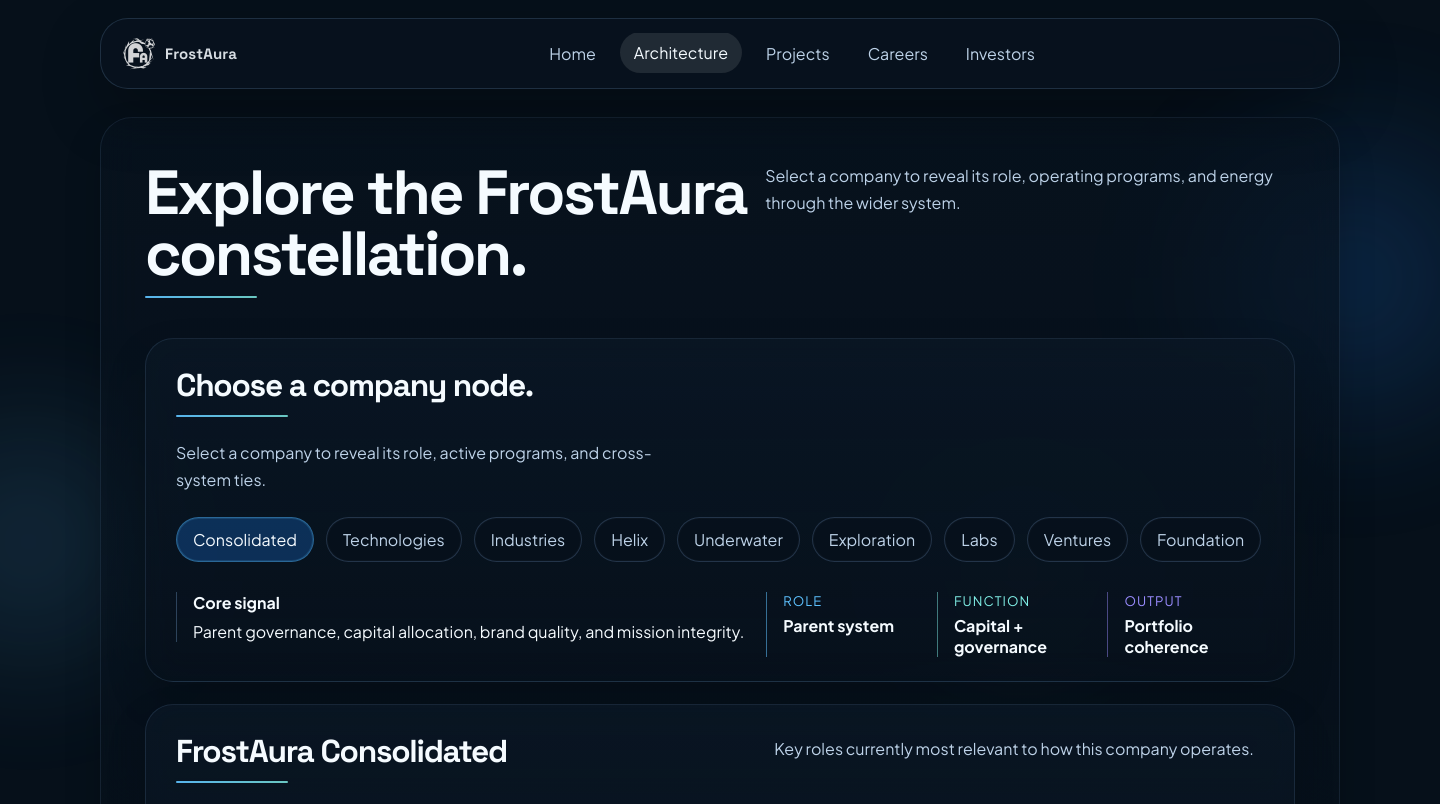
Test: App › switches the architecture detail panel
Click the tab "Technologies" at point(394, 540), box [326, 517, 462, 562]
(page scrolled)
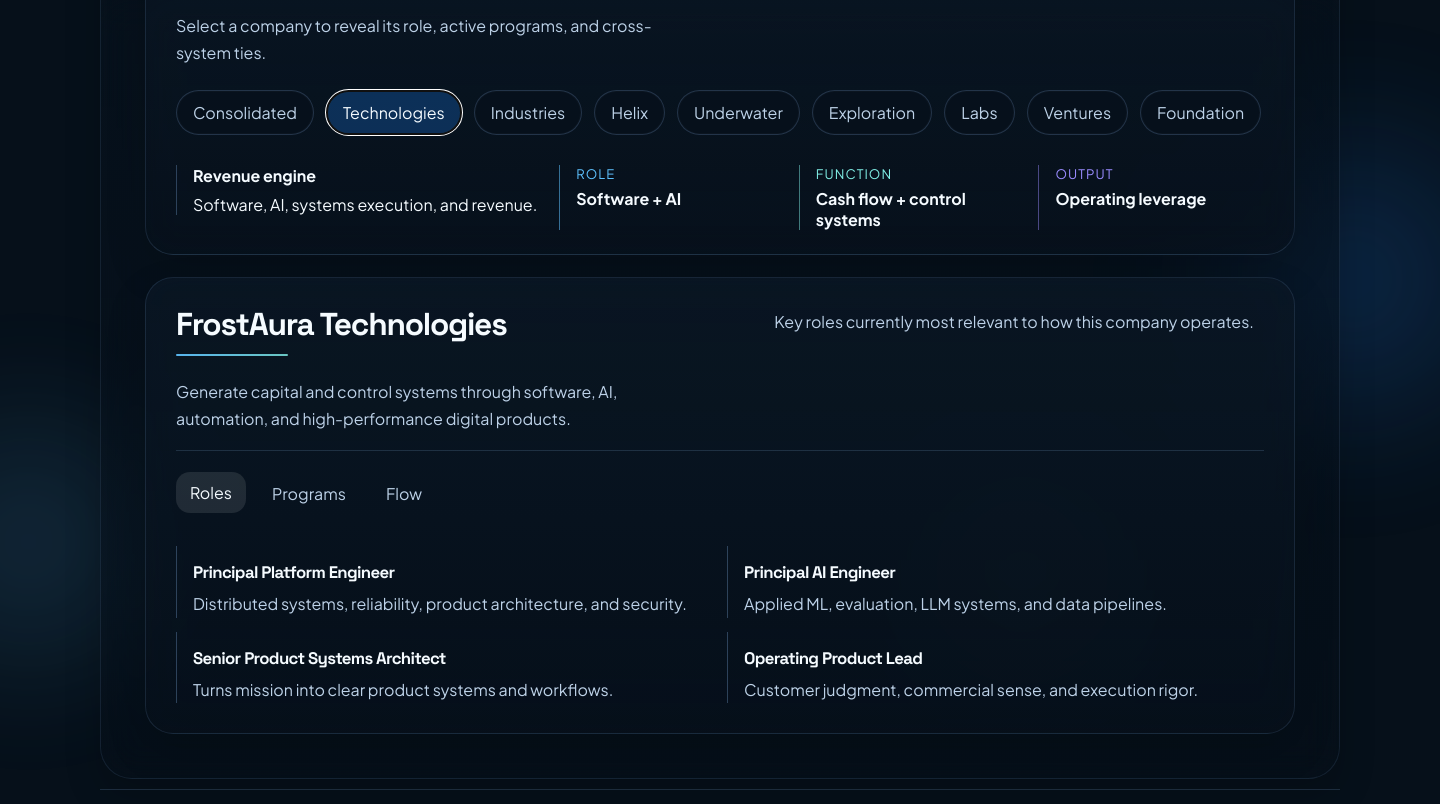
Expected: the text "Generate capital and control systems through software" is shown, [176, 381, 617, 429]
